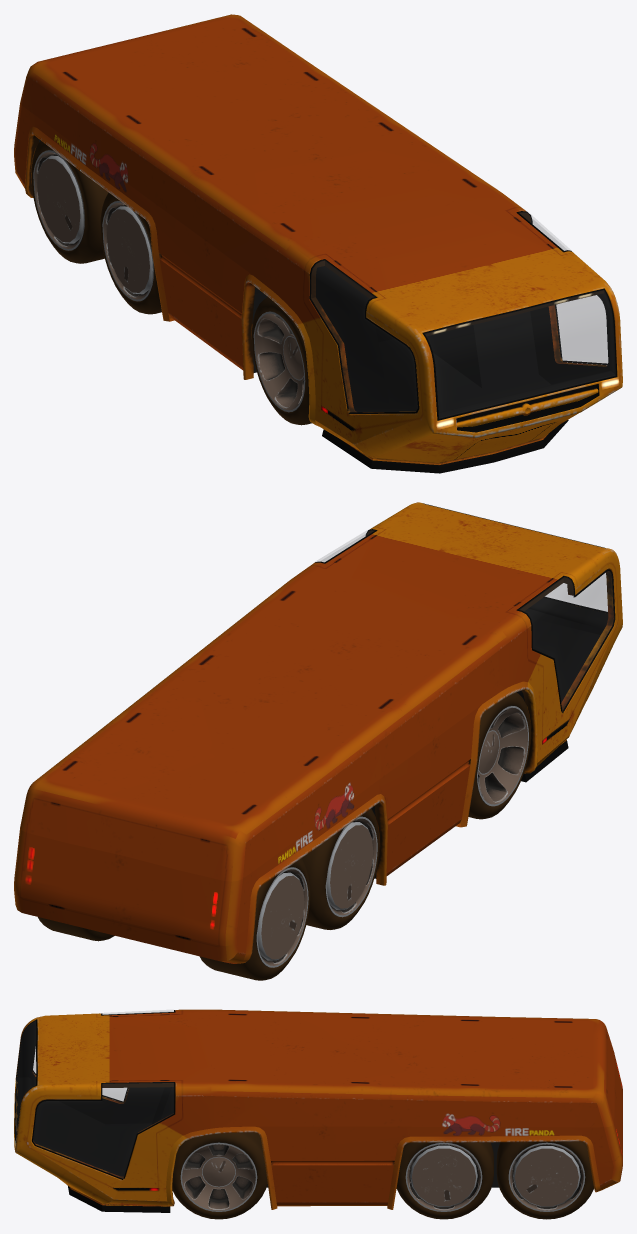
Rendered from TRUCK_volvo_concept_interactive_20261103.glb.
3 renders of one model, top to bottom at view 1: azimuth 30°, elevation 25°; view 2: azimuth 150°, elevation 25°; view 3: azimuth 270°, elevation 25°, orthographic. The views are drawn at different scales.
Visible parts, largest first — view 1: Volvo__hull_outer_0, Volvo__windows_glass_0, Volvo__hull_inner_0, WPart_00_L_Volvo__Cylinder_001_wheel_0, WPart_01_L_Volvo__Cylinder_001_wheel_0, WPart_02_L_Volvo__Cylinder_001_wheel_0, Volvo__windows_window_rubber_0, WPart_02_L_Volvo__Cylinder_001_wheel_rubber_0, Volvo__hull_bottom_rubber_0, Volvo__hull_holes_0, WPart_00_L_Volvo__Cylinder_001_wheel_rubber_0, WPart_01_L_Volvo__Cylinder_001_wheel_rubber_0 (+2 smaller); view 2: Volvo__hull_outer_0, Volvo__windows_glass_0, Volvo__hull_inner_0, WPart_00_L_Volvo__Cylinder_001_wheel_0, WPart_01_L_Volvo__Cylinder_001_wheel_0, WPart_02_L_Volvo__Cylinder_001_wheel_0, WPart_01_L_Volvo__Cylinder_001_wheel_rubber_0, WPart_02_L_Volvo__Cylinder_001_wheel_rubber_0, WPart_00_L_Volvo__Cylinder_001_wheel_rubber_0, Volvo__windows_window_rubber_0, WPart_02_L_Volvo__Cylinder_001_steel_0, WPart_01_L_Volvo__Cylinder_001_steel_0 (+1 smaller); view 3: Volvo__hull_outer_0, Volvo__windows_glass_0, Volvo__hull_inner_0, WPart_00_R_Volvo__Cylinder_001_wheel_0, WPart_02_R_Volvo__Cylinder_001_wheel_0, WPart_01_R_Volvo__Cylinder_001_wheel_0, WPart_00_R_Volvo__Cylinder_001_wheel_rubber_0, WPart_02_R_Volvo__Cylinder_001_wheel_rubber_0, WPart_01_R_Volvo__Cylinder_001_wheel_rubber_0, Volvo__windows_window_rubber_0, WPart_01_R_Volvo__Cylinder_001_steel_0, WPart_02_R_Volvo__Cylinder_001_steel_0 (+2 smaller).
Part boxes in pixels (x1,y1,x2,y2): Volvo__hull_outer_0: (14, 14, 622, 464); Volvo__windows_glass_0: (311, 212, 615, 418); Volvo__hull_inner_0: (316, 266, 615, 418); WPart_00_L_Volvo__Cylinder_001_wheel_0: (254, 311, 305, 411); WPart_01_L_Volvo__Cylinder_001_wheel_0: (103, 200, 153, 300); WPart_02_L_Volvo__Cylinder_001_wheel_0: (34, 150, 84, 250); Volvo__windows_window_rubber_0: (309, 211, 617, 420); WPart_02_L_Volvo__Cylinder_001_wheel_rubber_0: (31, 141, 108, 263); Volvo__hull_bottom_rubber_0: (322, 420, 568, 473); Volvo__hull_holes_0: (456, 384, 599, 432); WPart_00_L_Volvo__Cylinder_001_wheel_rubber_0: (251, 297, 311, 425); WPart_01_L_Volvo__Cylinder_001_wheel_rubber_0: (100, 193, 161, 314); Volvo__hull_outer_0: (14, 502, 622, 963); Volvo__windows_glass_0: (316, 530, 613, 709); Volvo__hull_inner_0: (524, 598, 608, 702); WPart_00_L_Volvo__Cylinder_001_wheel_0: (477, 705, 527, 805); WPart_01_L_Volvo__Cylinder_001_wheel_0: (325, 816, 376, 916); WPart_02_L_Volvo__Cylinder_001_wheel_0: (256, 867, 307, 967); WPart_01_L_Volvo__Cylinder_001_wheel_rubber_0: (301, 809, 379, 929); WPart_02_L_Volvo__Cylinder_001_wheel_rubber_0: (199, 858, 310, 980); WPart_00_L_Volvo__Cylinder_001_wheel_rubber_0: (468, 692, 530, 819); Volvo__windows_window_rubber_0: (315, 503, 615, 712); WPart_02_L_Volvo__Cylinder_001_steel_0: (256, 867, 308, 967); WPart_01_L_Volvo__Cylinder_001_steel_0: (325, 816, 377, 917); Volvo__hull_outer_0: (14, 1009, 622, 1209); Volvo__windows_glass_0: (16, 1010, 173, 1178); Volvo__hull_inner_0: (17, 1021, 175, 1176); WPart_00_R_Volvo__Cylinder_001_wheel_0: (180, 1142, 256, 1210); WPart_02_R_Volvo__Cylinder_001_wheel_0: (508, 1142, 584, 1210); WPart_01_R_Volvo__Cylinder_001_wheel_0: (405, 1142, 481, 1210); WPart_00_R_Volvo__Cylinder_001_wheel_rubber_0: (172, 1132, 267, 1219); WPart_02_R_Volvo__Cylinder_001_wheel_rubber_0: (496, 1141, 593, 1219); WPart_01_R_Volvo__Cylinder_001_wheel_rubber_0: (396, 1142, 493, 1219); Volvo__windows_window_rubber_0: (16, 1010, 174, 1179); WPart_01_R_Volvo__Cylinder_001_steel_0: (405, 1142, 482, 1211); WPart_02_R_Volvo__Cylinder_001_steel_0: (508, 1142, 585, 1211).
Bounding box in the file's own units: 2.55 × 1.89 × 7.69.
Materials: 10 (9 with a texture image).
